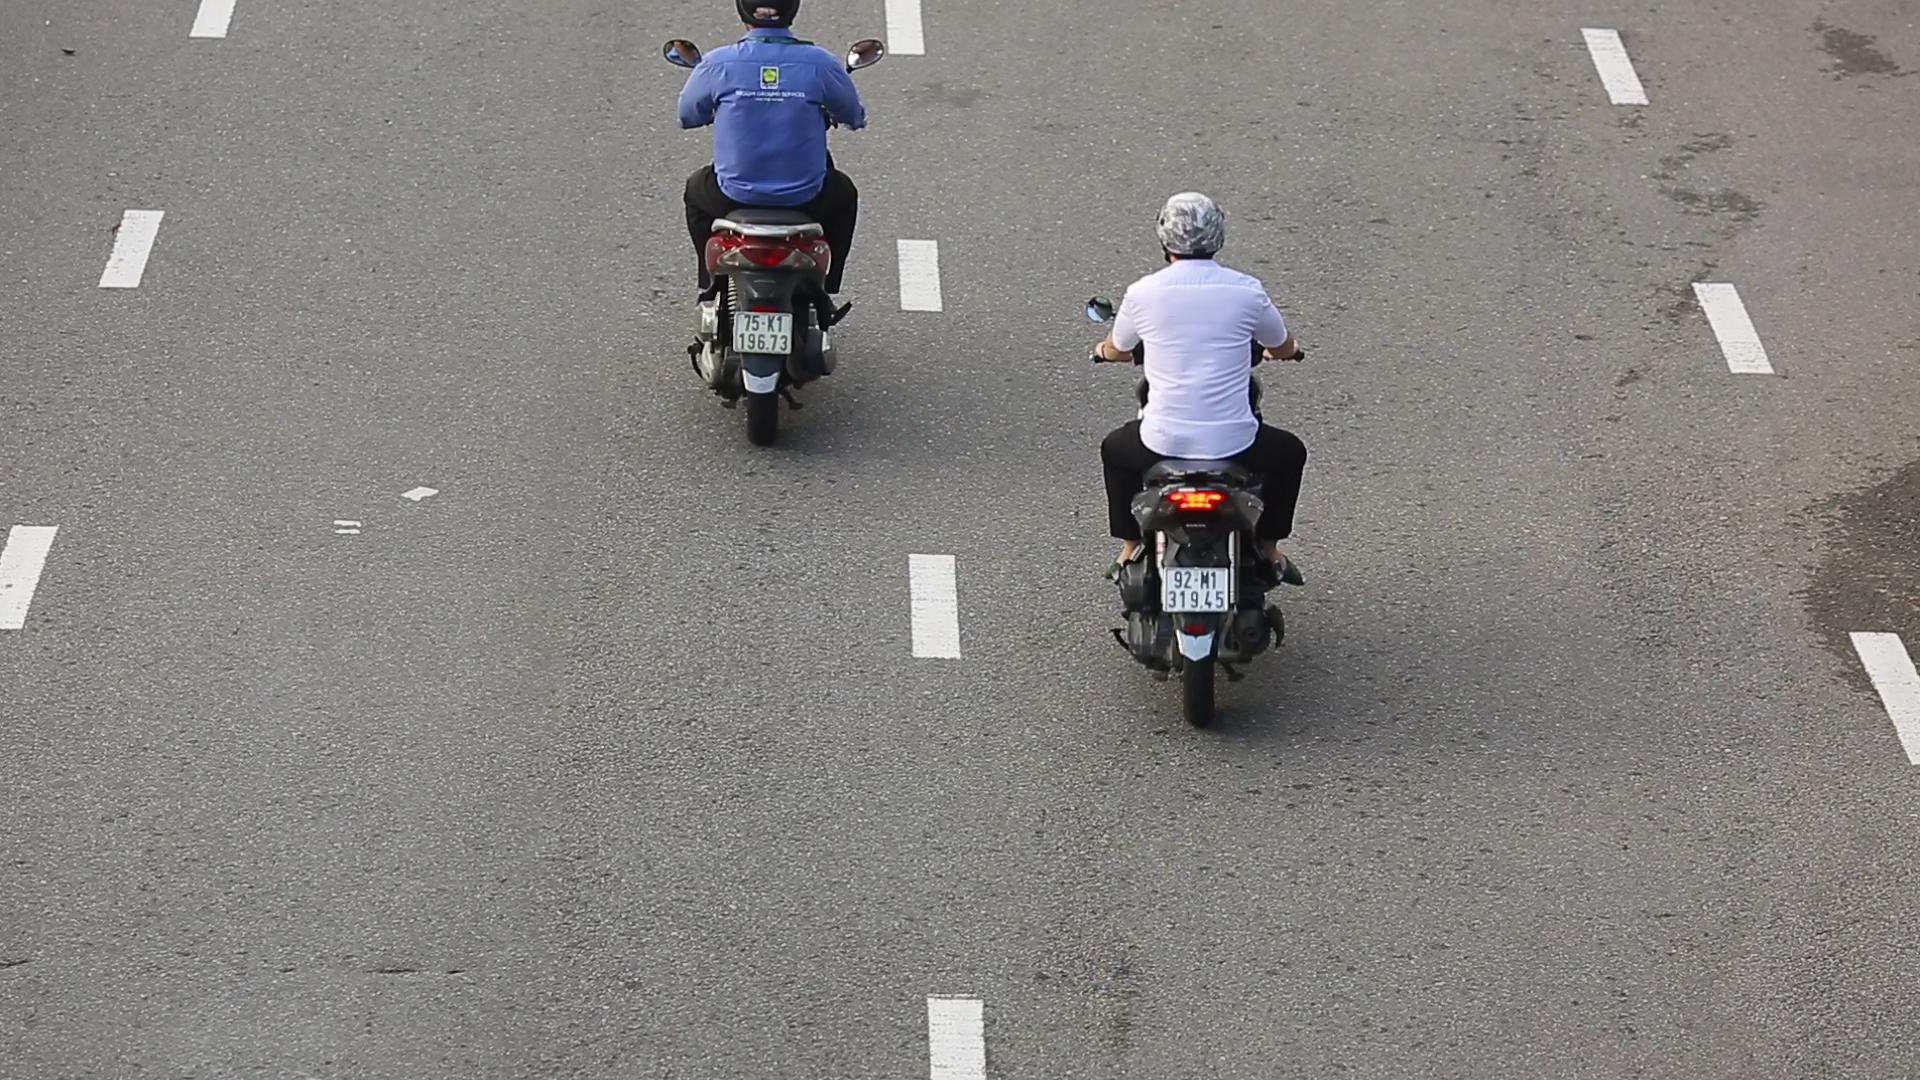motobike: (1083, 190, 1317, 732)
